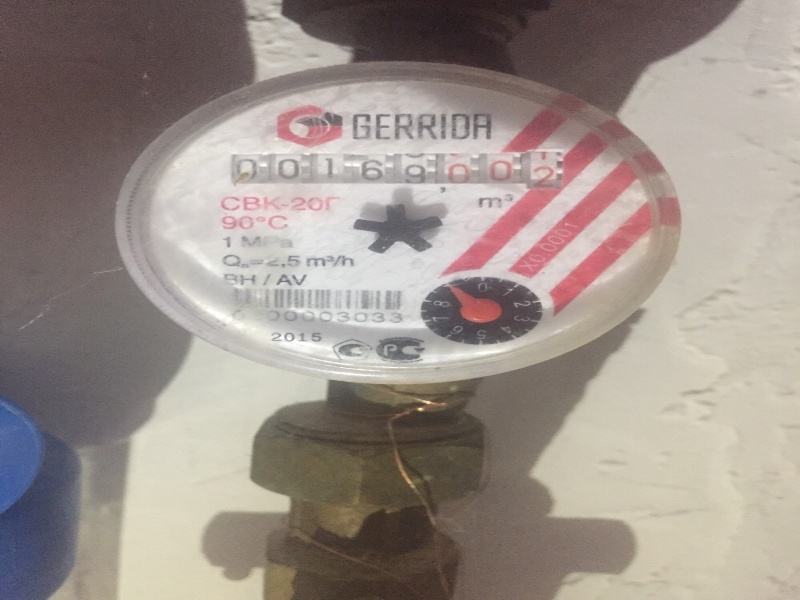meter: (216, 147, 573, 191)
